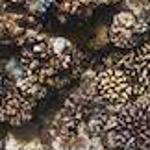alive: (1, 15, 144, 148)
